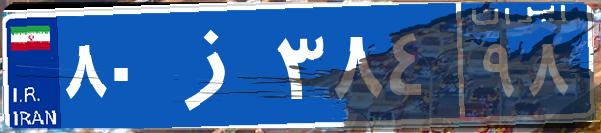0: (110, 28, 158, 105)
3: (273, 28, 330, 110)
4: (385, 28, 445, 110)
8: (330, 28, 385, 110), (57, 26, 110, 107), (525, 38, 570, 115)
9: (475, 38, 525, 113)
ز: (158, 15, 273, 115)
